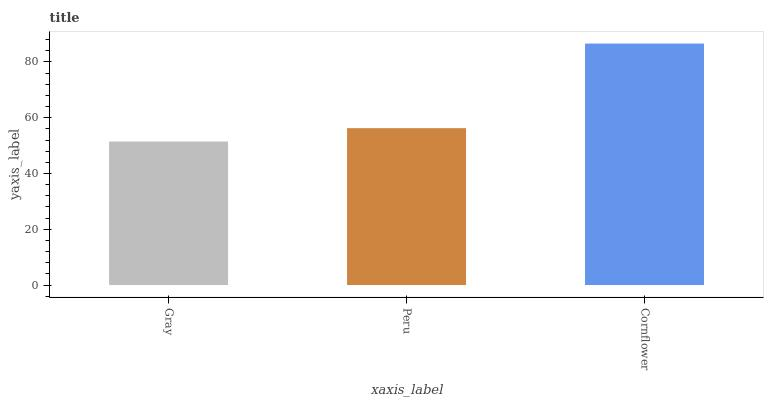axis: (42, 29, 54, 294)
label: (636, 307, 652, 373), (396, 304, 417, 338), (161, 305, 178, 343)
rectangle: (586, 44, 704, 284), (347, 129, 467, 286), (110, 140, 228, 286)
title: (44, 3, 88, 29)
